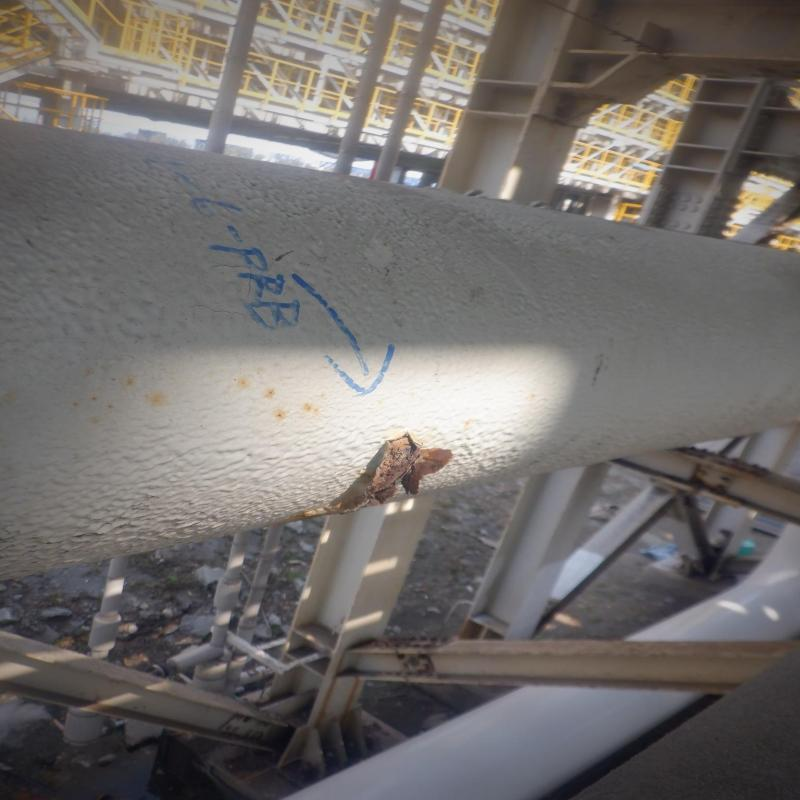corrosion: (363, 438, 454, 501)
